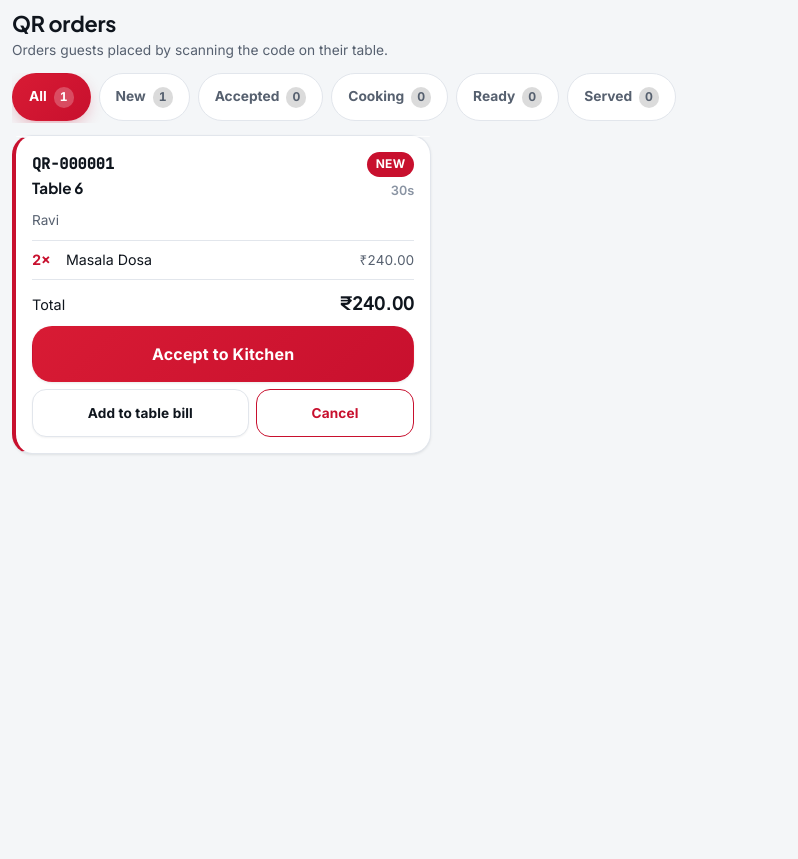
QR orders board › after accepting, the button immediately reads Accepted and cannot be pressed again
This screenshot has width=798, height=859.
Click the button "Accept to Kitchen": point(223, 354) top-left (32, 326), bottom-right (414, 382)
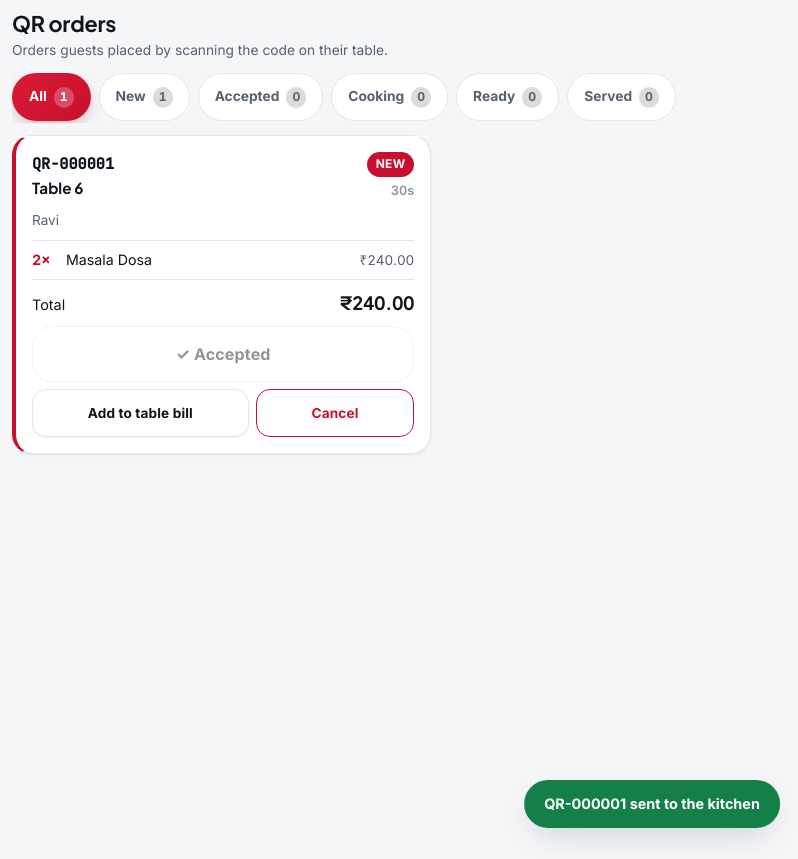
Check: the button "✓ Accepted" is disabled, box top-left (32, 326), bottom-right (414, 382)
Check: the button "Accept to Kitchen" is gone
